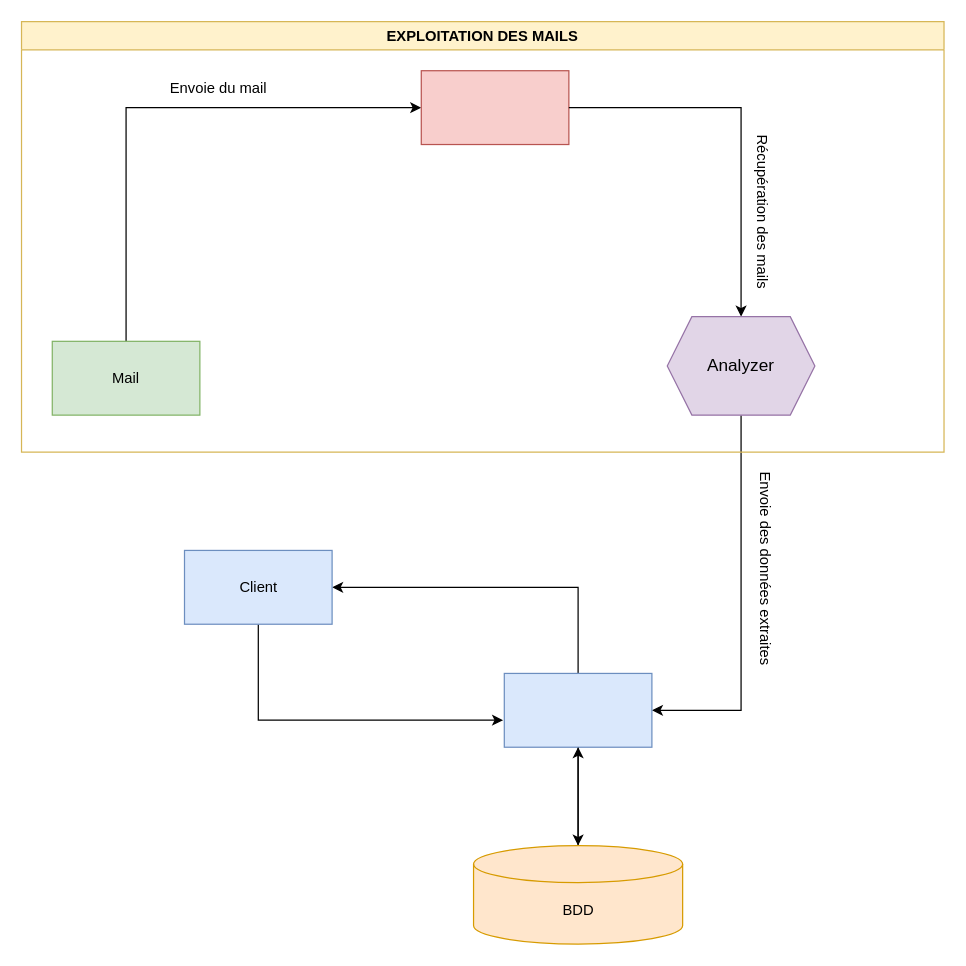
Image size: 966x966. Some labels were removed from this diagram. The shapes that lost their labels are listed below. From the top down, each one's centre as x and y in pixels, then its label:
pixel 494 107: BOITE DE RECEPTION
pixel 577 709: Server
